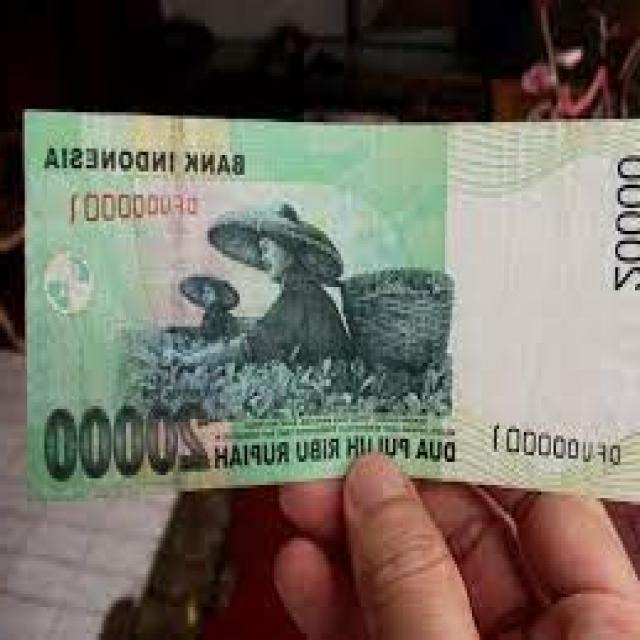dua puluh ribu rupiah: (26, 114, 640, 502), (133, 171, 449, 421), (37, 387, 224, 484)
